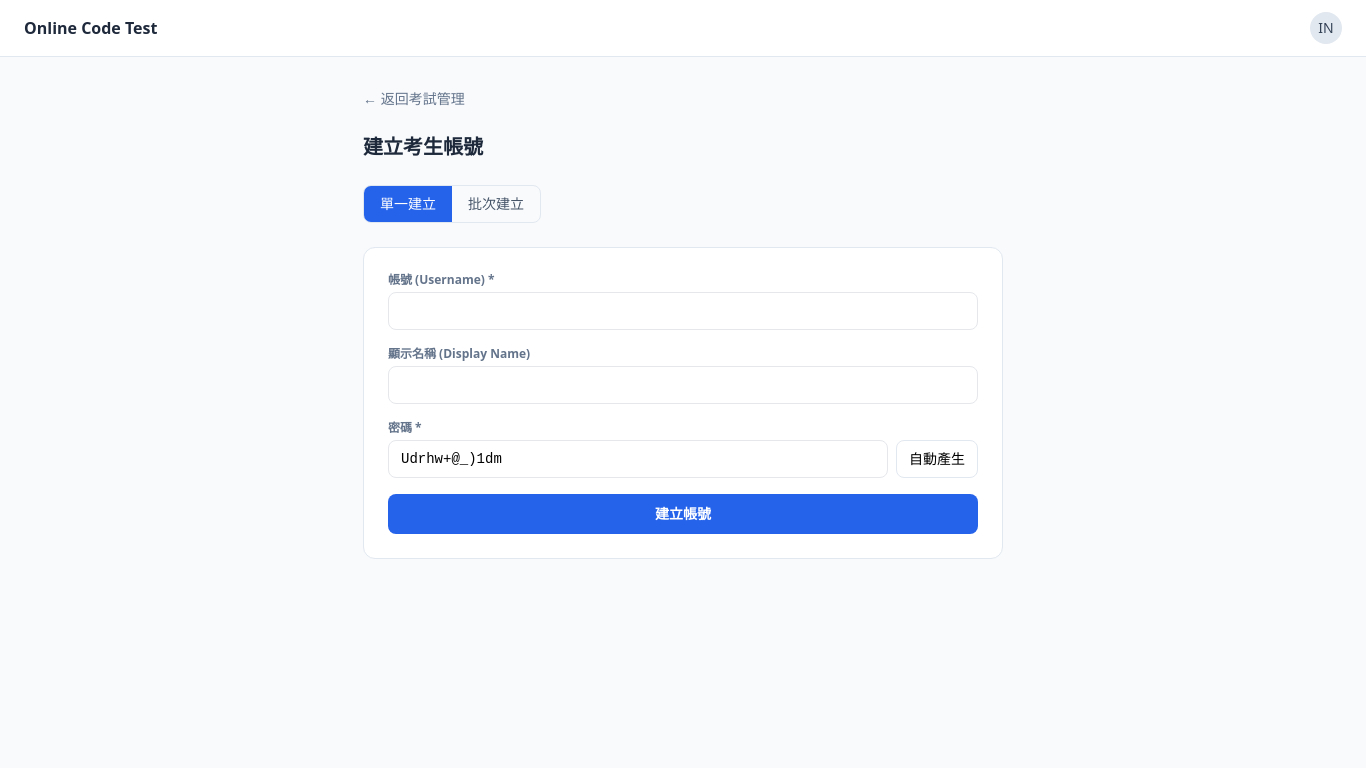
Test case: CandidateCreatePage() › switches to batch mode and shows count input
Click the button "批次建立" at (496, 204), box [452,186,540,222]
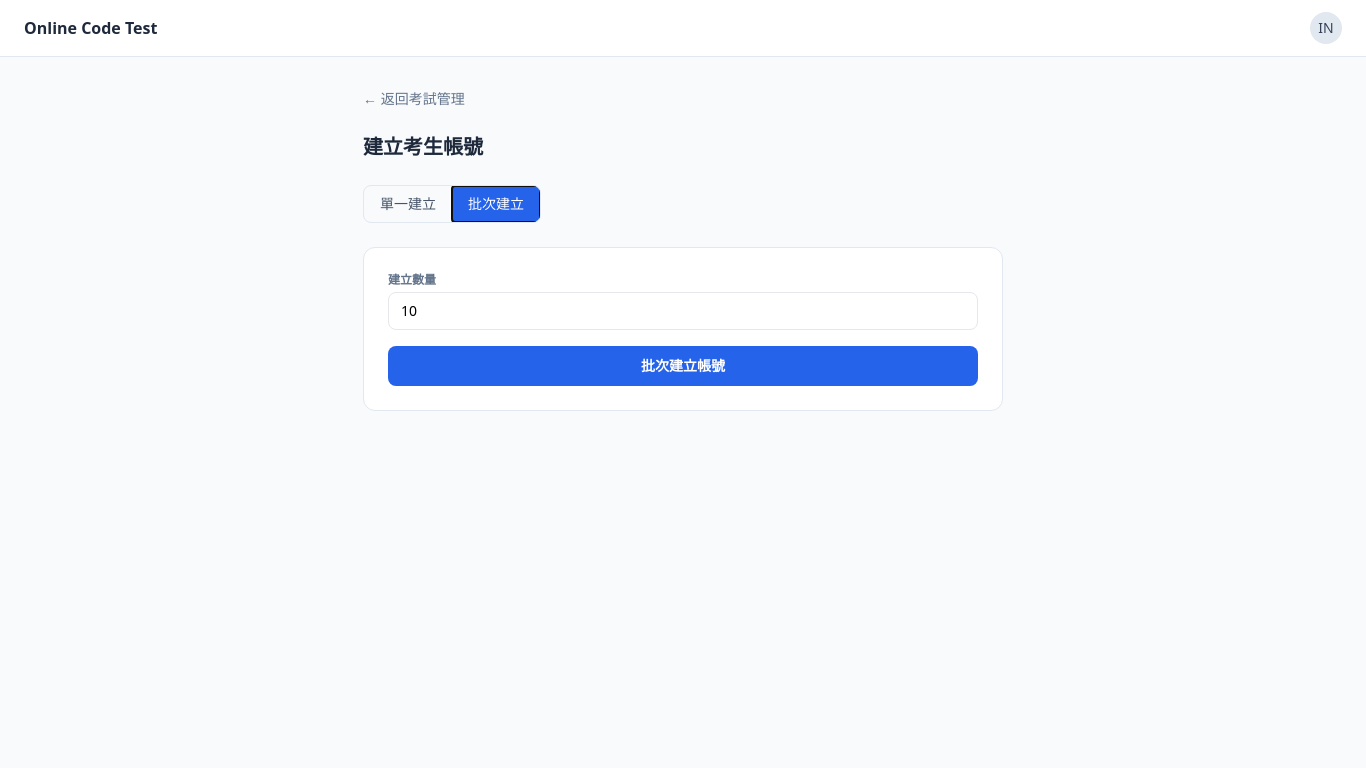
Expected: the number field labelled "建立數量" is shown, [388,292,978,330]
Expected: the button "批次建立帳號" is shown, [388,346,978,386]
